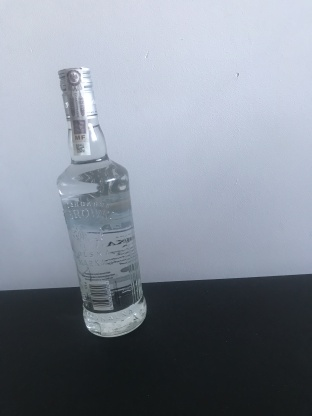nakretka: (56, 63, 100, 124)
